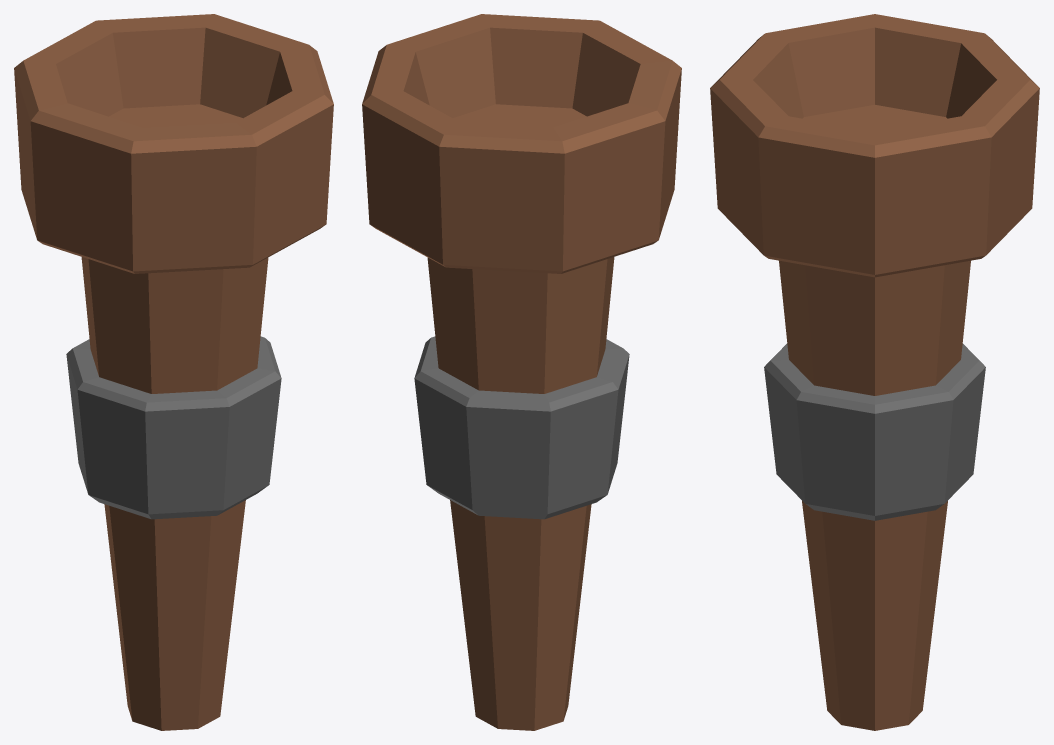
The model's file is Torch.fbx.
3 views of the same model, side by side, from view 1: azimuth 30°, elevation 25°; view 2: azimuth 150°, elevation 25°; view 3: azimuth 270°, elevation 25° (orthographic).
Parts seen in each view (by area): view 1: Torch01; view 2: Torch01; view 3: Torch01.
Part boxes in pixels (left/top/right/bottom): Torch01: left=14, top=14, right=333, bottom=730; Torch01: left=362, top=14, right=681, bottom=730; Torch01: left=710, top=14, right=1039, bottom=730.
Size of the model in its own units: 313 by 661 by 313.
